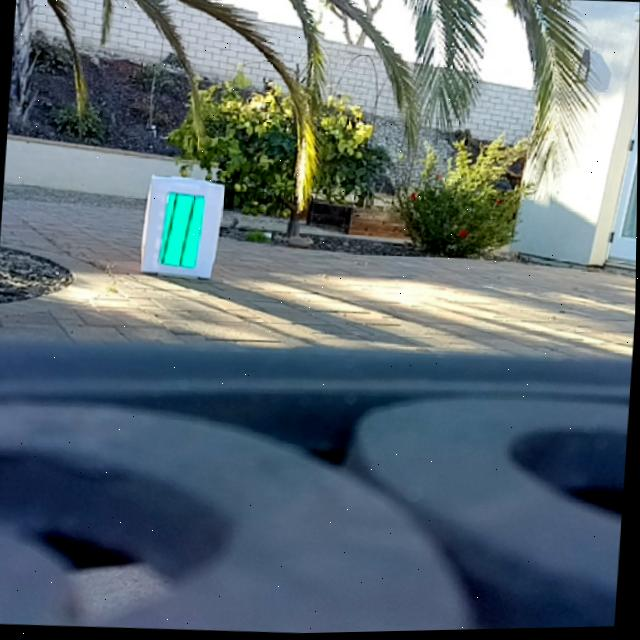led: (159, 191, 207, 273)
